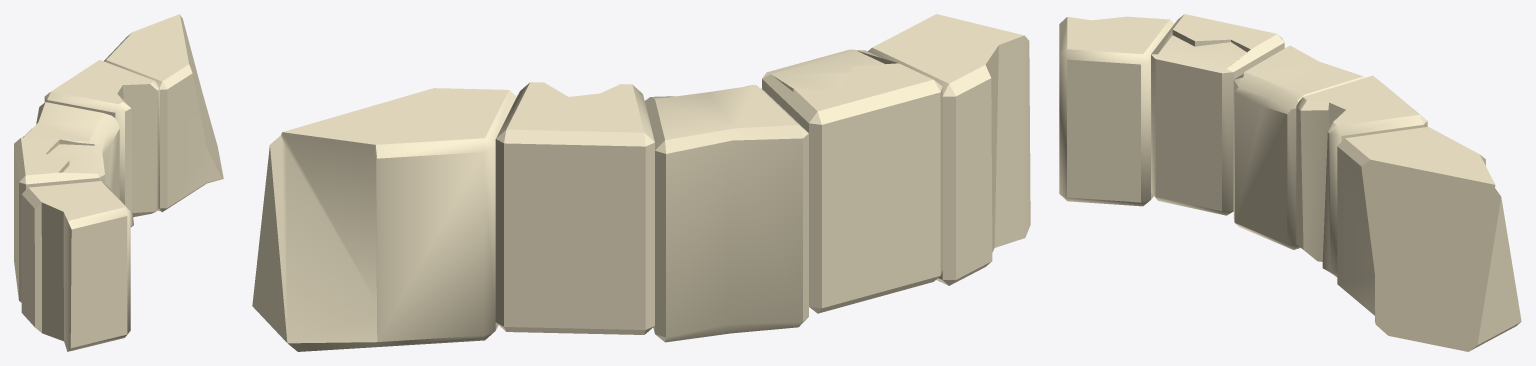
Rendered from Destroy_Arch_0.fbx.
3 views of the same model, side by side, from view 1: azimuth 30°, elevation 25°; view 2: azimuth 150°, elevation 25°; view 3: azimuth 270°, elevation 25° (orthographic). The views are drawn at different scales.
Visible parts, largest first — view 1: Destroy_Arch_0_LOD0; view 2: Destroy_Arch_0_LOD0; view 3: Destroy_Arch_0_LOD0.
Part boxes in pixels (bbox=[...]): Destroy_Arch_0_LOD0: bbox=[14, 14, 223, 351]; Destroy_Arch_0_LOD0: bbox=[252, 14, 1030, 351]; Destroy_Arch_0_LOD0: bbox=[1059, 14, 1521, 351].
Size of what is drawn, in the model's own units: 623 by 248 by 652.
